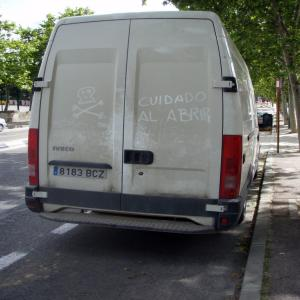Vehicle-registration-plate: (54, 166, 108, 180)
